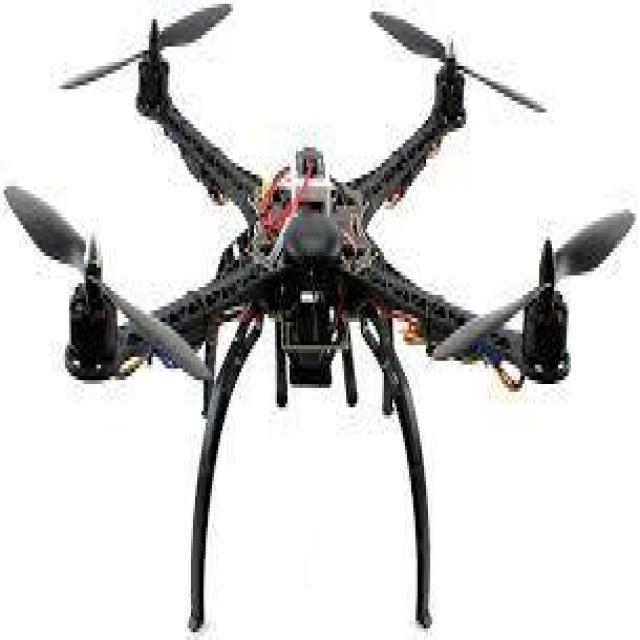drone: (49, 16, 612, 625)
